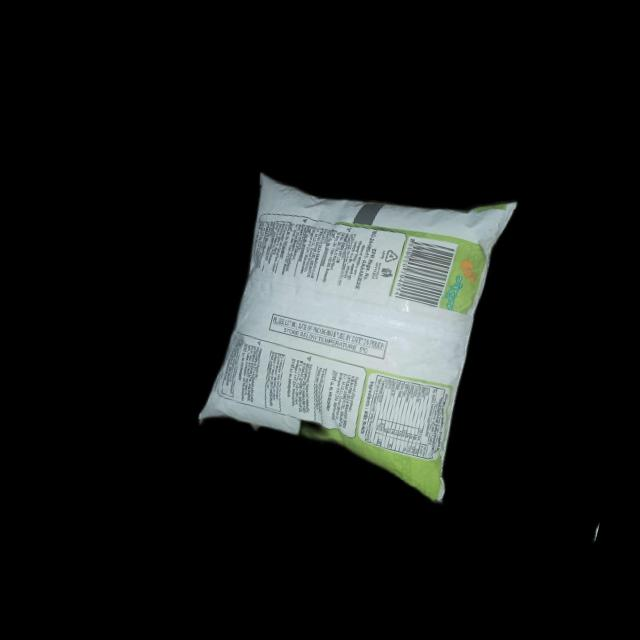Gokul Milk 500ml: (190, 138, 523, 500)
